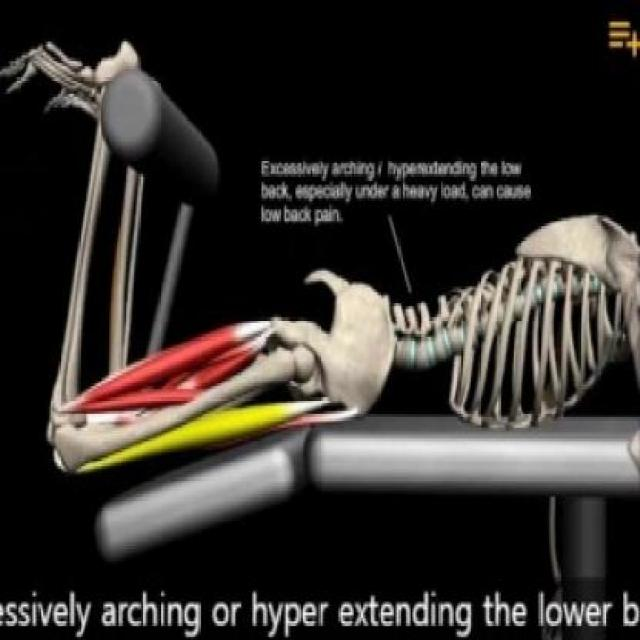reg curl machine: (0, 36, 640, 566)
